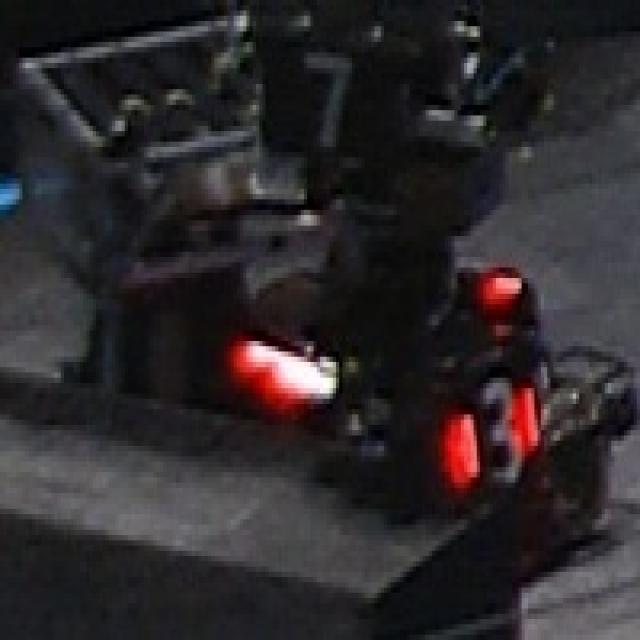R3: (434, 365, 552, 506)
